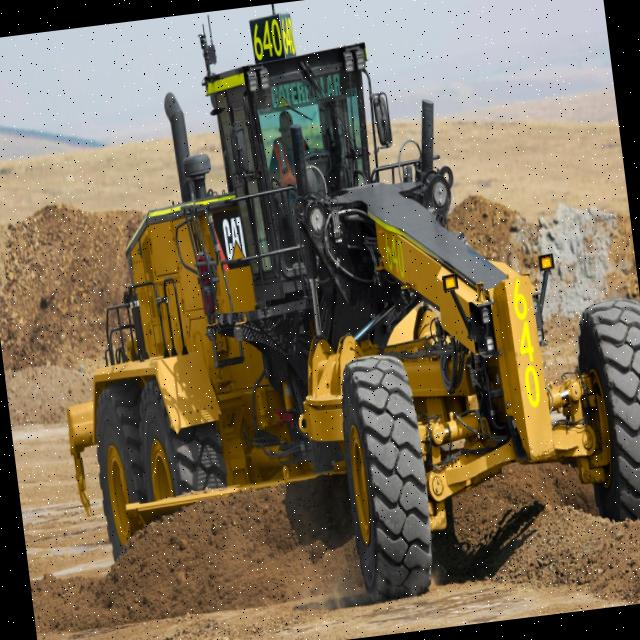Grader: (10, 0, 640, 639)
